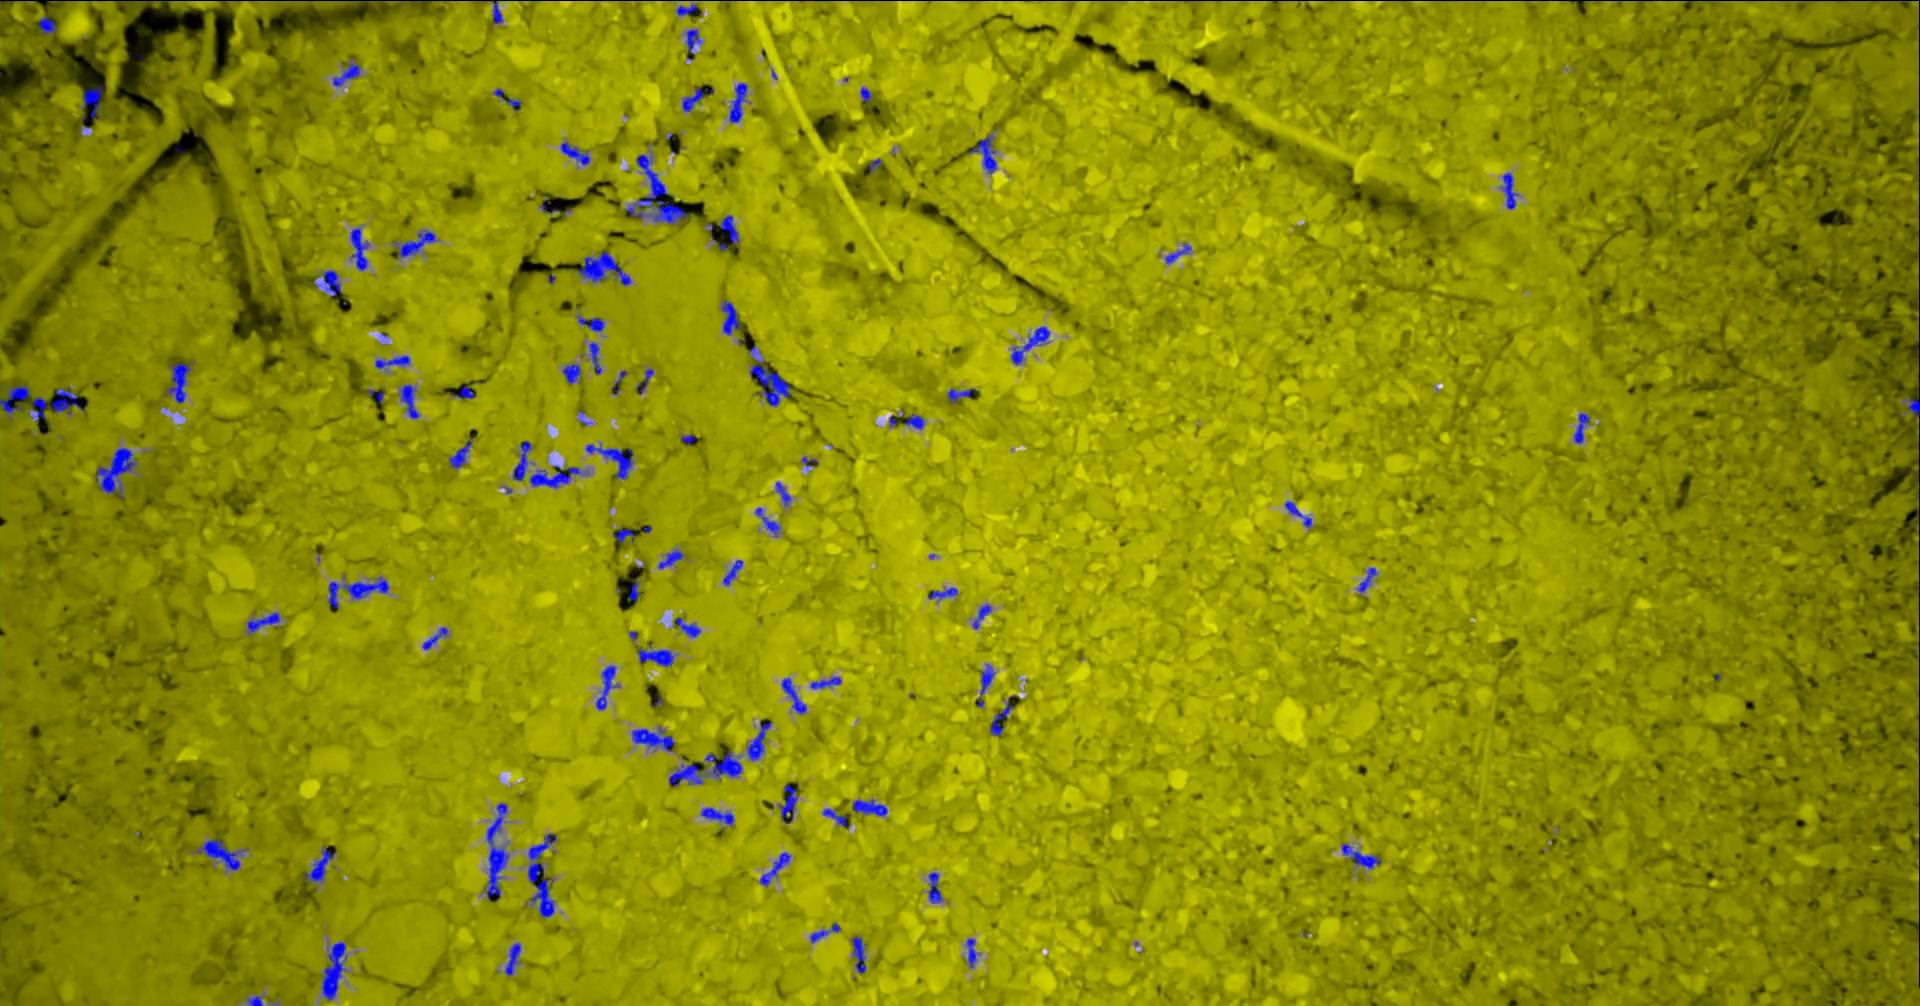ant: (527, 833, 556, 917), (486, 801, 508, 901), (95, 447, 136, 498), (328, 575, 389, 608), (575, 250, 631, 285), (749, 359, 790, 405), (584, 442, 632, 479), (196, 840, 246, 870), (1010, 326, 1049, 365), (321, 941, 345, 998), (530, 465, 587, 488), (303, 846, 334, 883), (968, 133, 996, 173), (759, 851, 790, 885), (631, 727, 674, 751), (397, 230, 436, 257), (596, 664, 618, 709), (703, 749, 742, 776), (1341, 843, 1382, 868), (51, 386, 84, 415), (747, 720, 771, 760), (781, 677, 806, 714), (166, 362, 189, 403), (81, 83, 105, 119), (0, 384, 29, 413), (448, 431, 471, 467), (990, 699, 1013, 735), (350, 224, 368, 271), (512, 439, 532, 480), (668, 763, 703, 786), (637, 644, 674, 666), (1284, 500, 1310, 528), (246, 611, 279, 633), (560, 141, 589, 165), (729, 83, 747, 122), (400, 384, 420, 418), (1500, 171, 1517, 210), (331, 64, 361, 86), (756, 507, 778, 536), (721, 298, 739, 335), (700, 807, 734, 826), (780, 784, 796, 823), (493, 88, 521, 111), (475, 0, 502, 23), (809, 923, 841, 942), (852, 799, 888, 815), (422, 626, 447, 649), (717, 215, 738, 243), (681, 86, 703, 111), (504, 942, 521, 976), (1164, 243, 1191, 263), (851, 935, 865, 973), (657, 549, 683, 568), (723, 559, 742, 586), (1573, 412, 1589, 443), (971, 603, 990, 629), (674, 617, 700, 636), (822, 808, 847, 827), (684, 29, 701, 58), (375, 354, 409, 368), (979, 663, 994, 694), (927, 871, 942, 902), (1357, 567, 1377, 591), (323, 271, 340, 295), (577, 316, 604, 332), (636, 368, 653, 394), (30, 396, 46, 423), (611, 370, 627, 394), (947, 387, 973, 403), (810, 676, 841, 688), (966, 937, 979, 967), (775, 481, 790, 506), (589, 342, 601, 373), (927, 587, 957, 598), (563, 365, 580, 384), (612, 528, 635, 542), (38, 15, 55, 34), (904, 413, 923, 429), (451, 385, 474, 398), (676, 3, 696, 15), (367, 389, 383, 404), (629, 577, 639, 600), (1907, 398, 1919, 417), (858, 86, 871, 102), (800, 456, 817, 466), (246, 995, 262, 1005), (114, 0, 170, 1)
